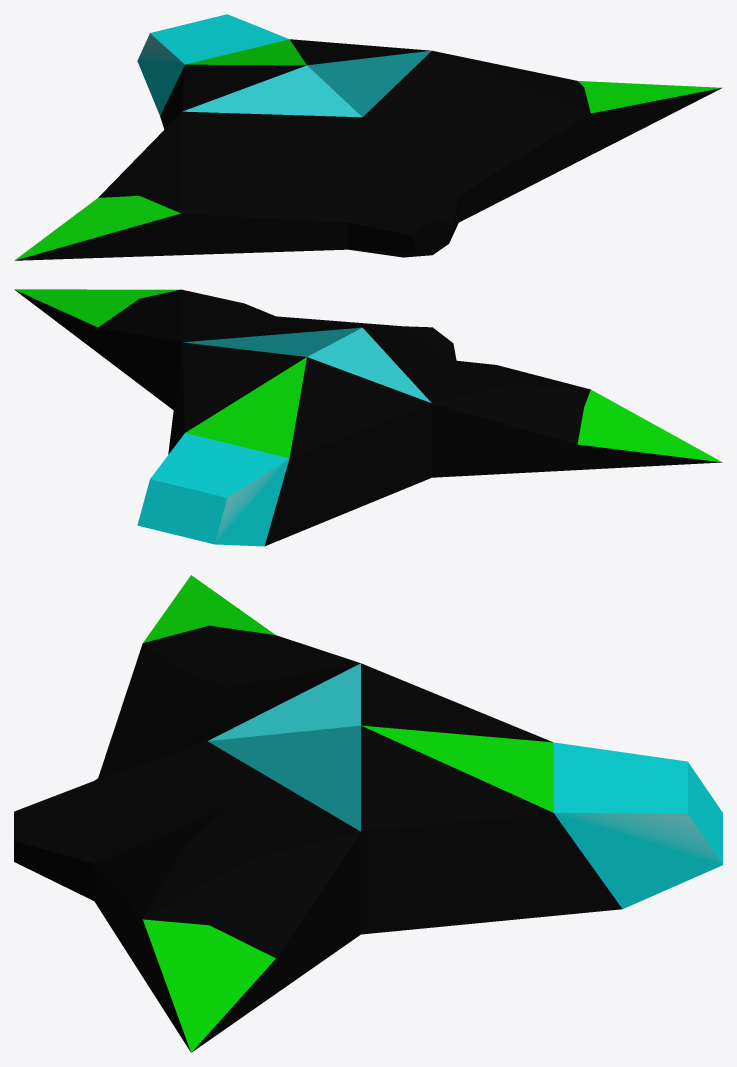
Rendered from Mining_dropship.fbx.
3 renders of one model, top to bottom at view 1: azimuth 30°, elevation 25°; view 2: azimuth 150°, elevation 25°; view 3: azimuth 270°, elevation 25°, orthographic. The views are drawn at different scales.
Parts seen in each view (by area): view 1: Cube; view 2: Cube; view 3: Cube.
Boxes of the visible parts, x1,y1,x2,y2 form: Cube: (14, 14, 722, 260); Cube: (14, 289, 722, 546); Cube: (14, 575, 722, 1052).
Bounding box in the file's own units: 1283 × 210 × 805.
